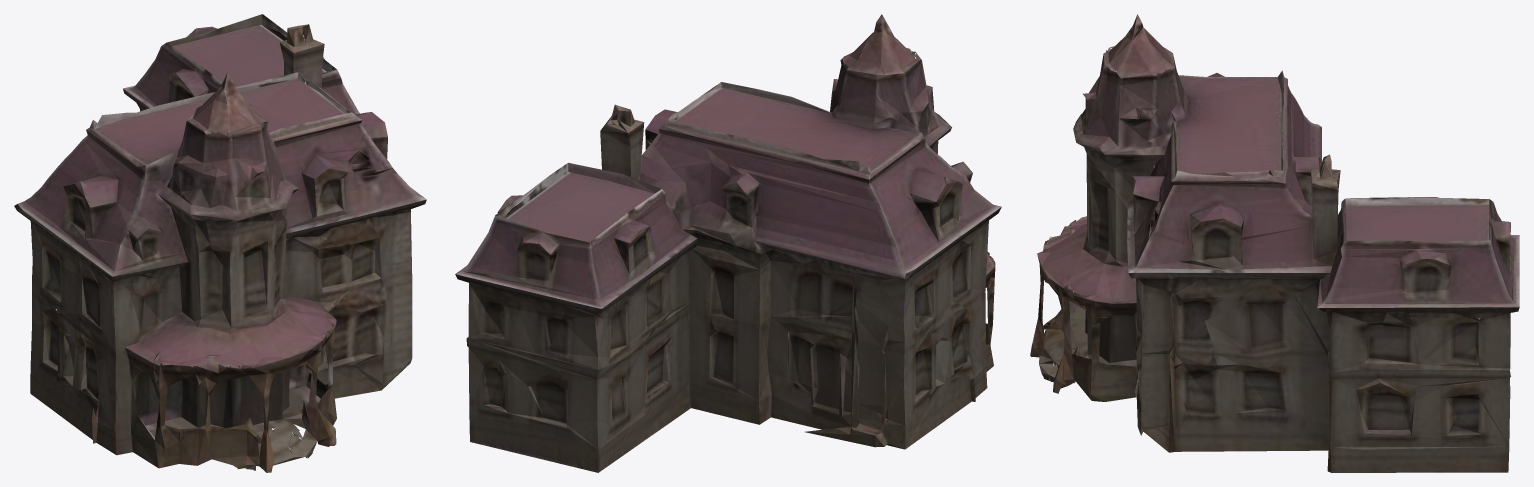
File: park_haunted_mansion_1117.glb
3 views of the same model, side by side, from view 1: azimuth 30°, elevation 25°; view 2: azimuth 150°, elevation 25°; view 3: azimuth 270°, elevation 25° (orthographic). The views are drawn at different scales.
Parts seen in each view (by area): view 1: world; view 2: world; view 3: world.
Part boxes in pixels (x1=…): world: x1=14, y1=14, x2=426, y2=472; world: x1=455, y1=14, x2=1001, y2=472; world: x1=1030, y1=14, x2=1519, y2=472.
Bounding box in the file's own units: 1.06 × 1 × 1.27.
1 material, 1 textured.
